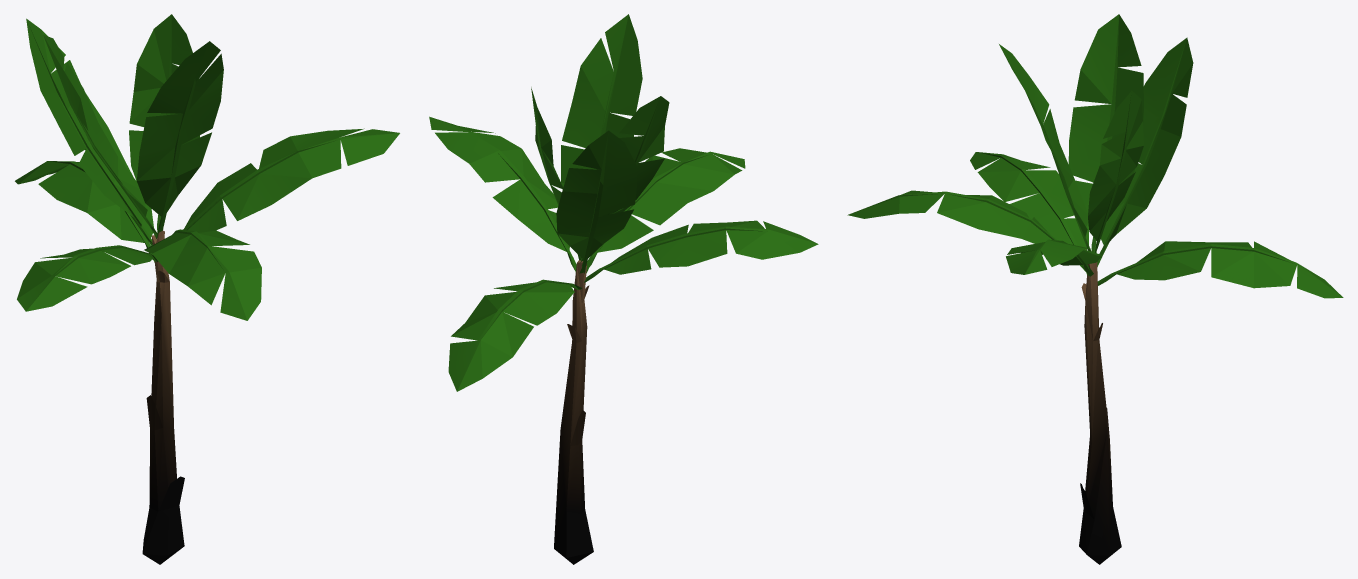
File: SM_BananaTree_1.FBX
The picture shows the model from 3 angles, left to right: view 1: azimuth 30°, elevation 25°; view 2: azimuth 150°, elevation 25°; view 3: azimuth 270°, elevation 25°; orthographic projection. The views are drawn at different scales.
Visible parts, largest first — view 1: SM_BananaTree_1; view 2: SM_BananaTree_1; view 3: SM_BananaTree_1.
Boxes of the visible parts, box(x1,y1,x2,y2) form: SM_BananaTree_1: box(15, 14, 399, 564); SM_BananaTree_1: box(429, 14, 818, 564); SM_BananaTree_1: box(847, 14, 1343, 564).
Size of the model in its own units: 266 by 359 by 311.
